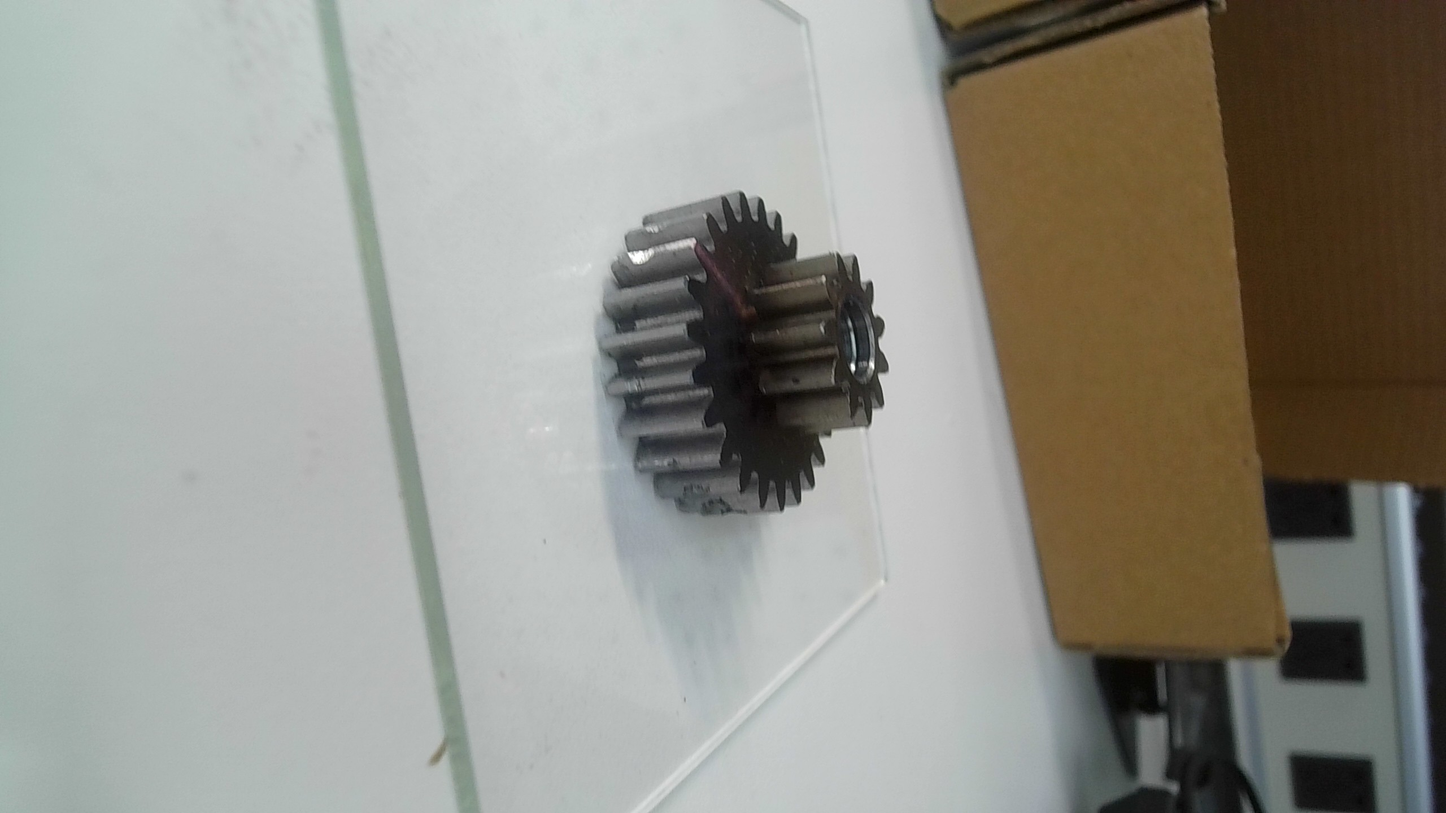gear: (593, 187, 897, 515)
